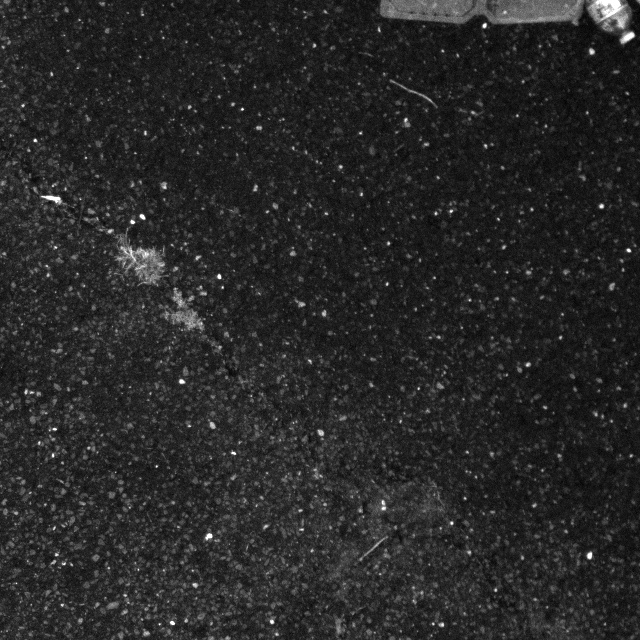bottle: (565, 0, 636, 52)
